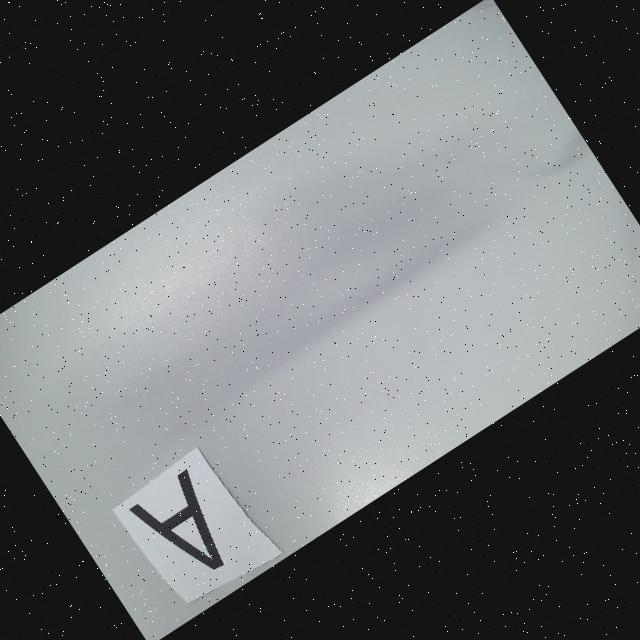FAKE: (128, 468, 242, 591)
